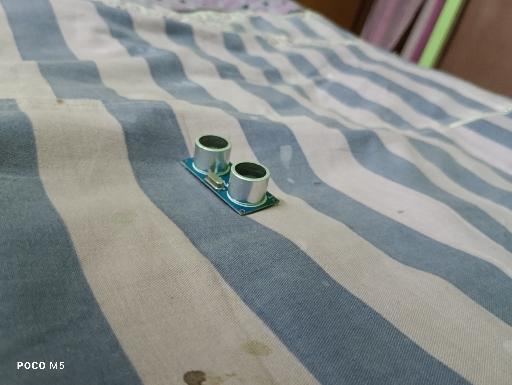sensor: (179, 133, 280, 217)
